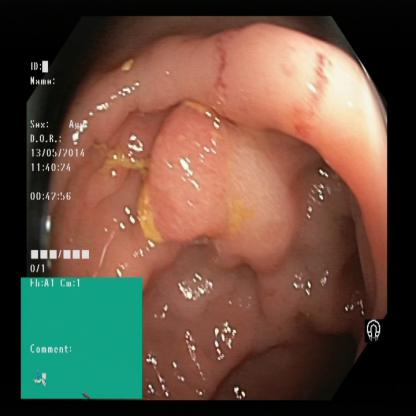Labels: (27, 57, 100, 276), (20, 277, 142, 397), (361, 312, 387, 348)
Polyps: (160, 108, 290, 268)
